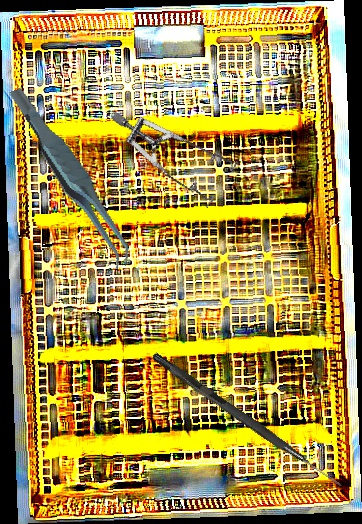Hook Surgical: (149, 351, 346, 490)
Speculum: (108, 72, 251, 229)
Tissue Forceps: (9, 72, 134, 283)
